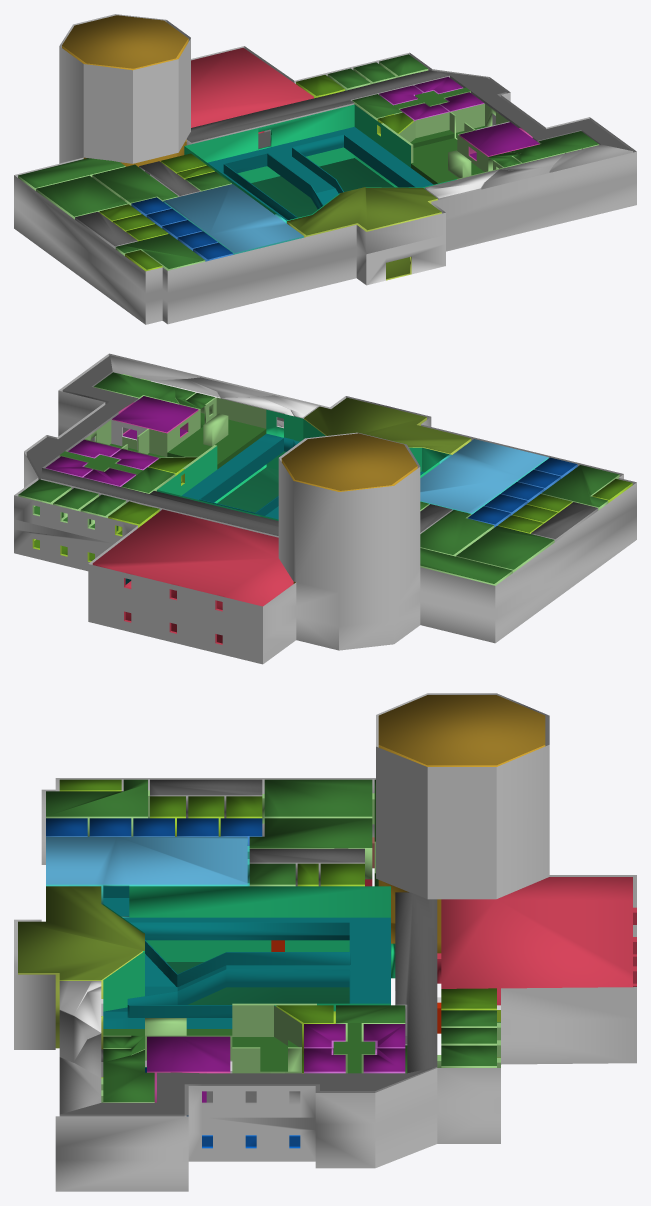
Rendered from hospital.fbx.
3 views of the same model, one above another, from view 1: azimuth 30°, elevation 25°; view 2: azimuth 150°, elevation 25°; view 3: azimuth 270°, elevation 25° (orthographic). The views are drawn at different scales.
Visible parts, largest first — view 1: hospital; view 2: hospital; view 3: hospital.
Boxes of the visible parts, x1=… form: hospital: x1=14, y1=14, x2=636, y2=324; hospital: x1=14, y1=353, x2=636, y2=664; hospital: x1=14, y1=693, x2=636, y2=1191.
Size of the model in its own units: 5770 by 1656 by 4489.
